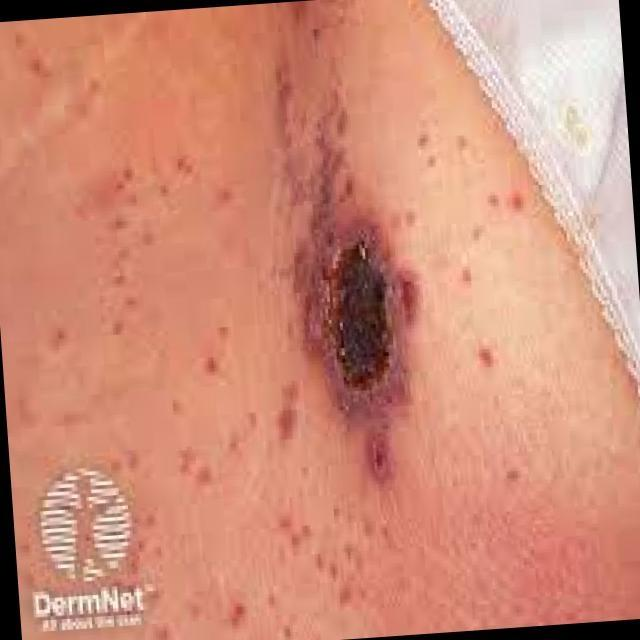Eczema: (277, 204, 430, 446)
